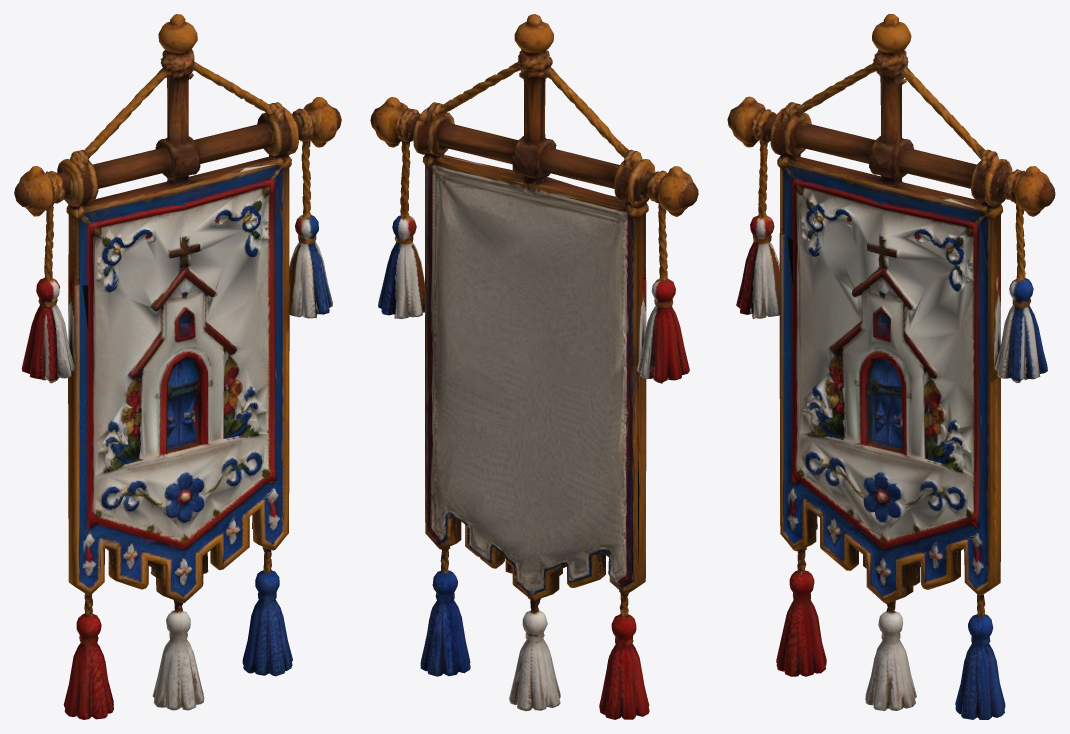
The model's file is pancarta_decorativa.glb.
The picture shows the model from 3 angles, left to right: view 1: azimuth 30°, elevation 25°; view 2: azimuth 150°, elevation 25°; view 3: azimuth 330°, elevation 25°; orthographic projection.
Parts seen in each view (by area): view 1: pancarta_decorativa; view 2: pancarta_decorativa; view 3: pancarta_decorativa.
Boxes of the visible parts, x1,y1,x2,y2 form: pancarta_decorativa: (14, 14, 341, 719); pancarta_decorativa: (370, 14, 698, 719); pancarta_decorativa: (727, 14, 1055, 719).
Bounding box in the file's own units: 0.7406 × 1.5 × 0.1087.
Materials: 1 (1 with a texture image).
